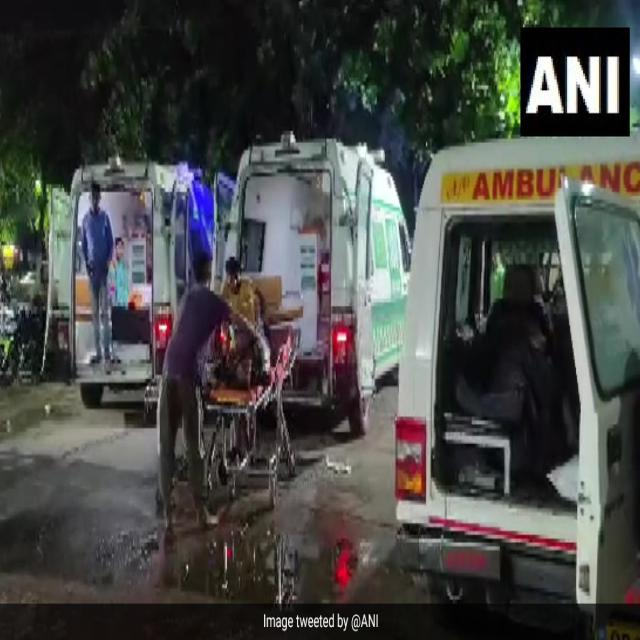emergency: (395, 134, 640, 606), (215, 132, 409, 434), (45, 161, 210, 405)
